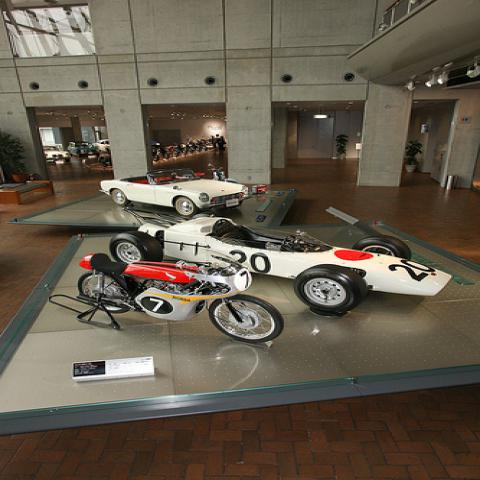car: (110, 206, 452, 314), (98, 170, 253, 218), (68, 141, 100, 157), (42, 146, 71, 162), (92, 139, 110, 153)
motorcycle: (81, 254, 281, 342), (173, 142, 196, 156), (150, 148, 169, 161), (187, 141, 200, 154)
